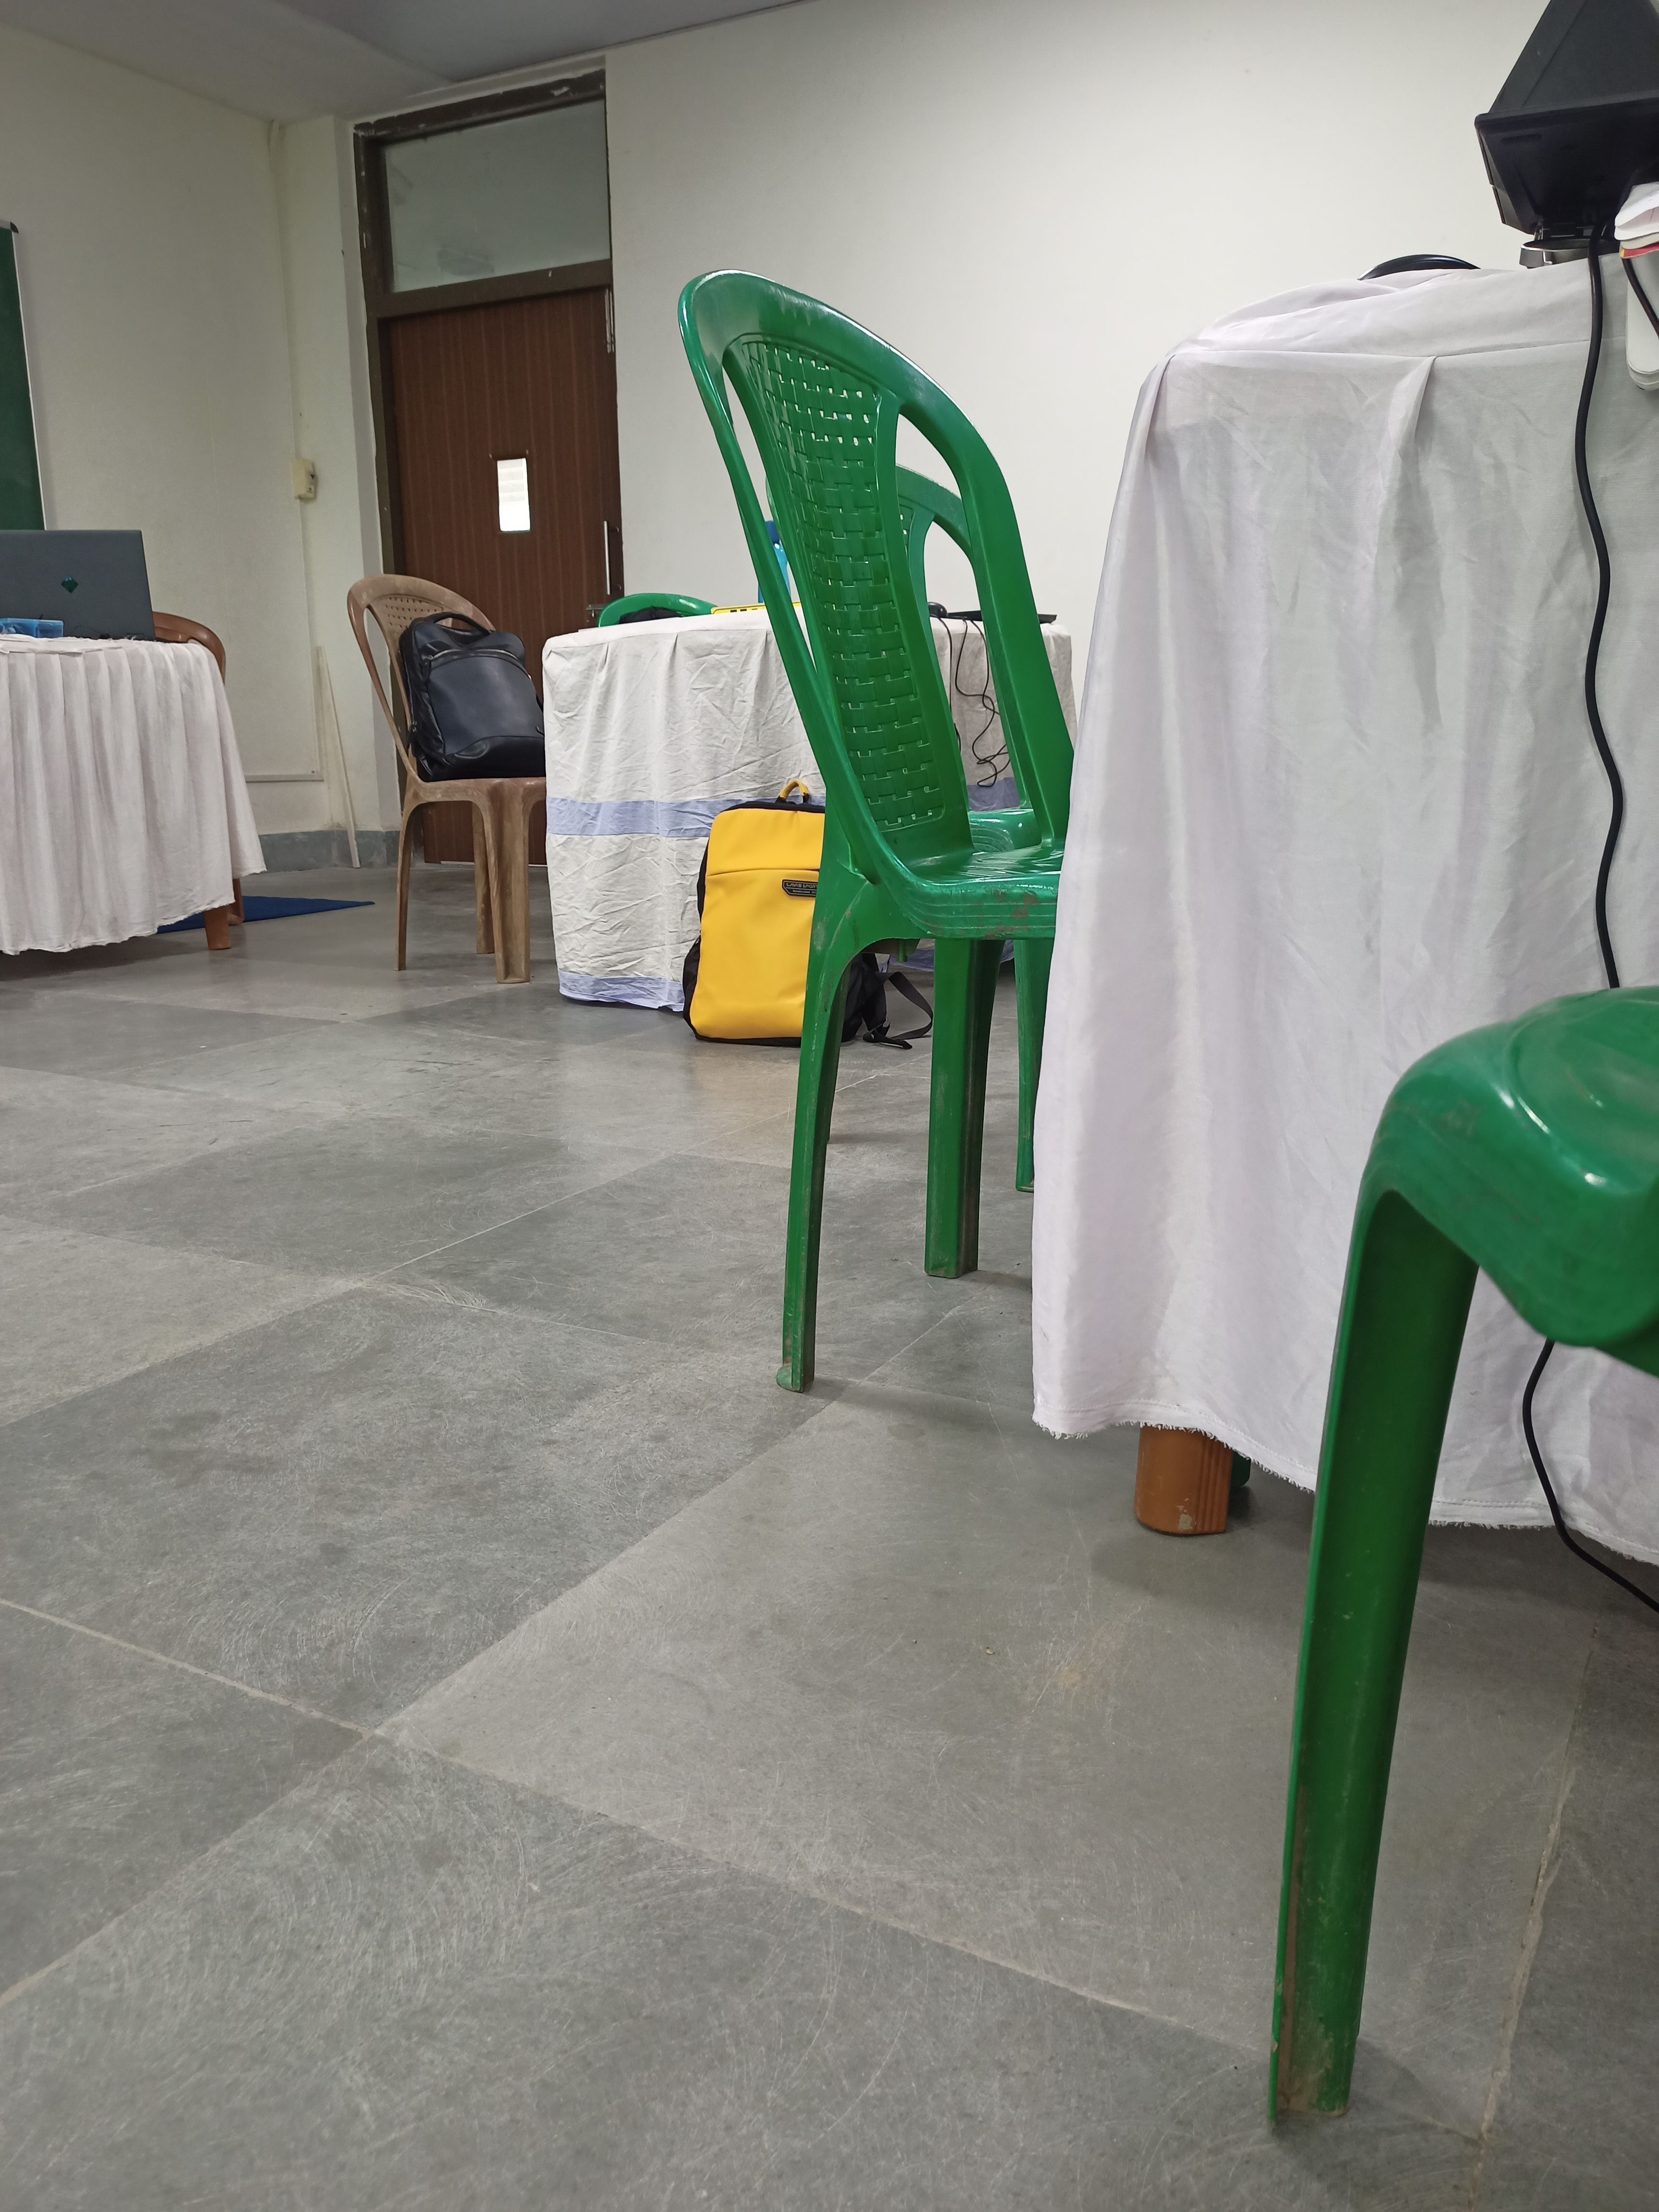Obstacle: (1054, 368, 1659, 2128), (338, 587, 1042, 1047)
Path: (5, 869, 997, 2200)
